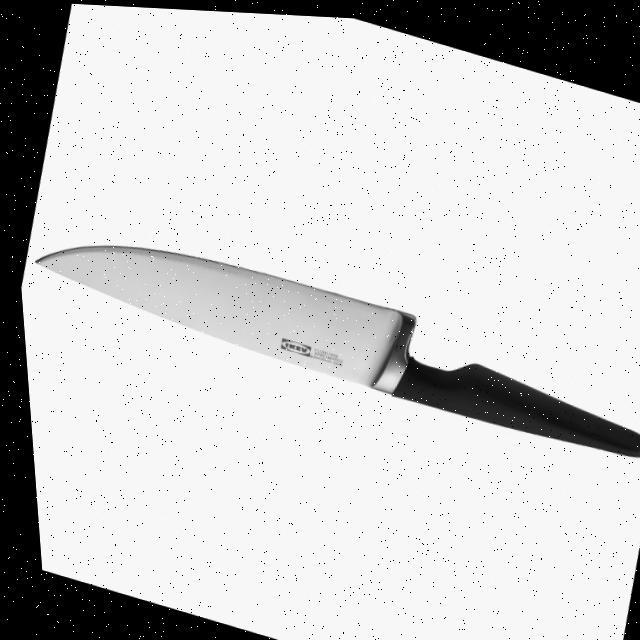knife: (14, 202, 640, 480)
